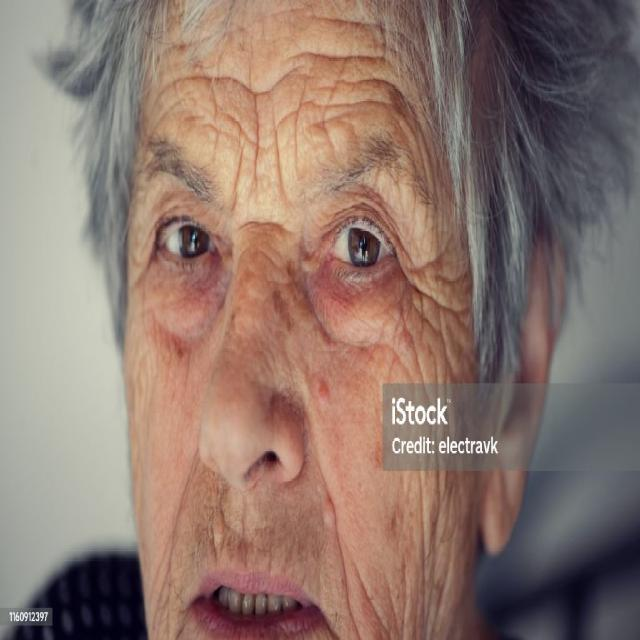dry: (125, 343, 213, 569), (223, 303, 337, 456), (389, 420, 465, 618), (216, 40, 314, 184)
